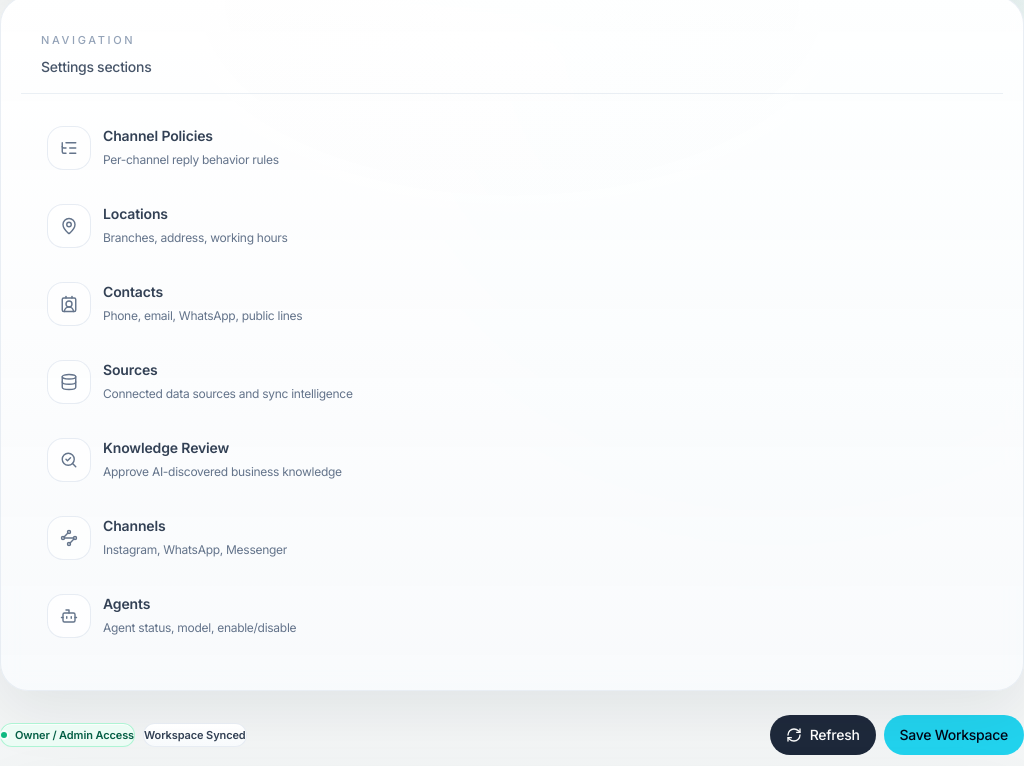
Test: Settings truth-maintenance smoke › renders source sync and knowledge review truth-maintenance messaging
(page scrolled)
Click the button "Sources Connected data sources and sync intelligence" at (69, 382), box left=33, top=346, right=991, bottom=418
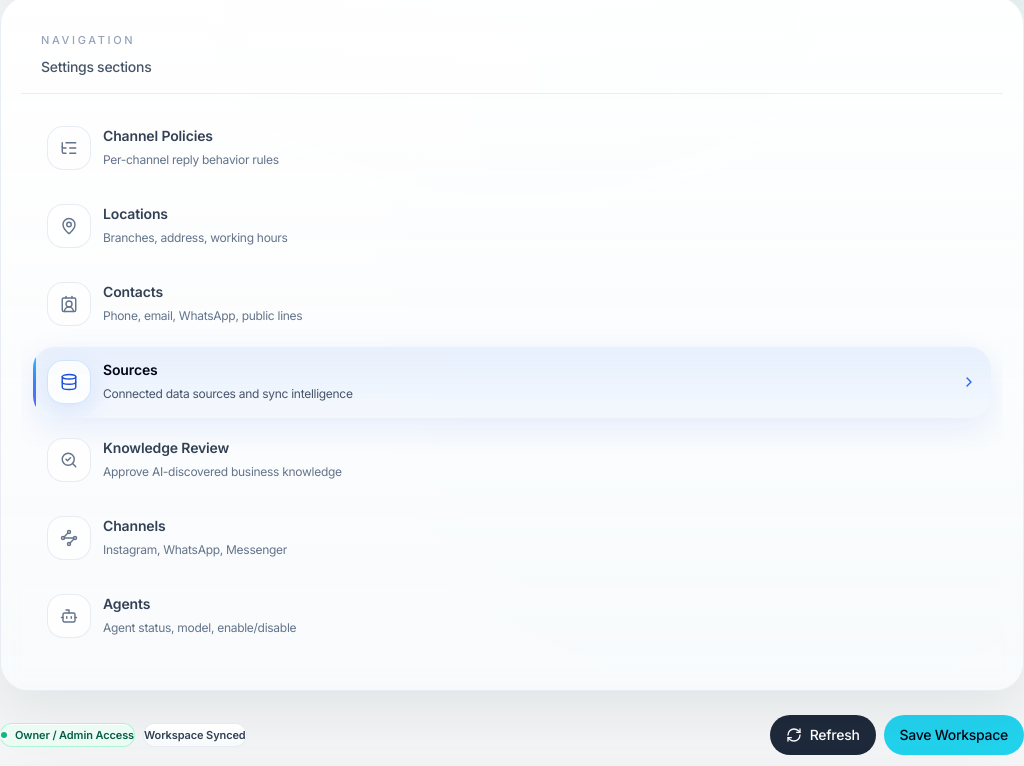
Click the button "Knowledge Review Approve AI-discovered business knowledge" at (69, 460), box left=33, top=424, right=991, bottom=496
(page scrolled)
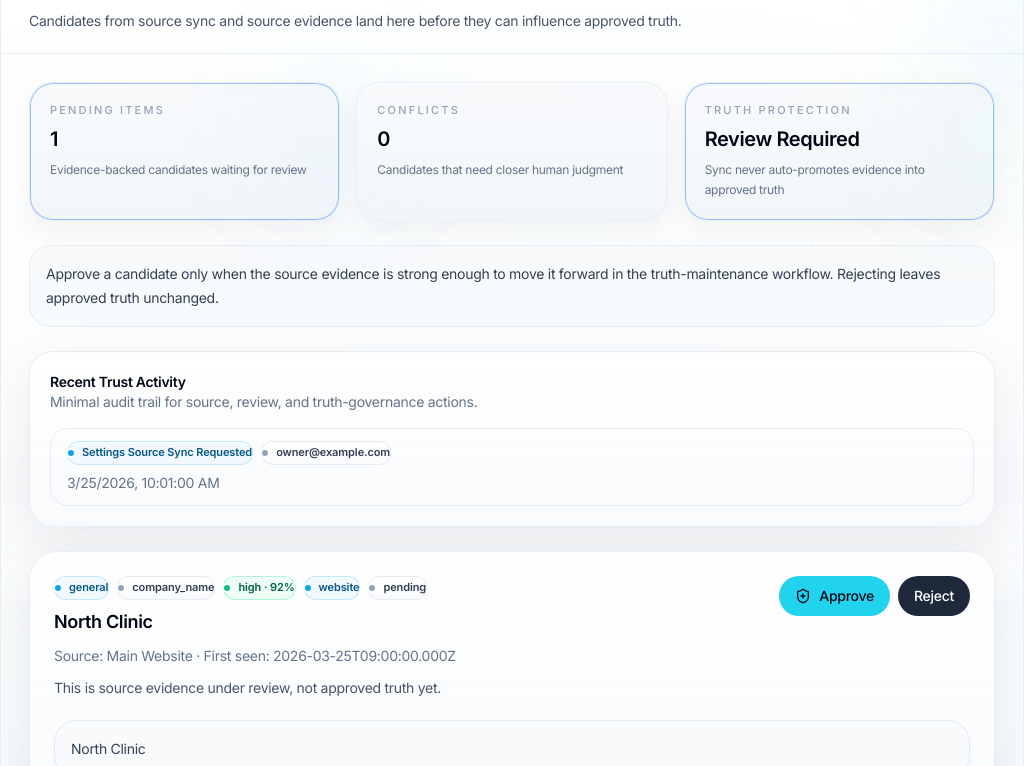
expect the text "Candidates from source sync and source evidence land here" is shown: met, box left=29, top=12, right=682, bottom=29
expect the text "This is source evidence under review, not approved truth yet" is shown: met, box left=54, top=679, right=441, bottom=696
expect the text "Recent Trust Activity" is shown: met, box left=50, top=373, right=186, bottom=390
